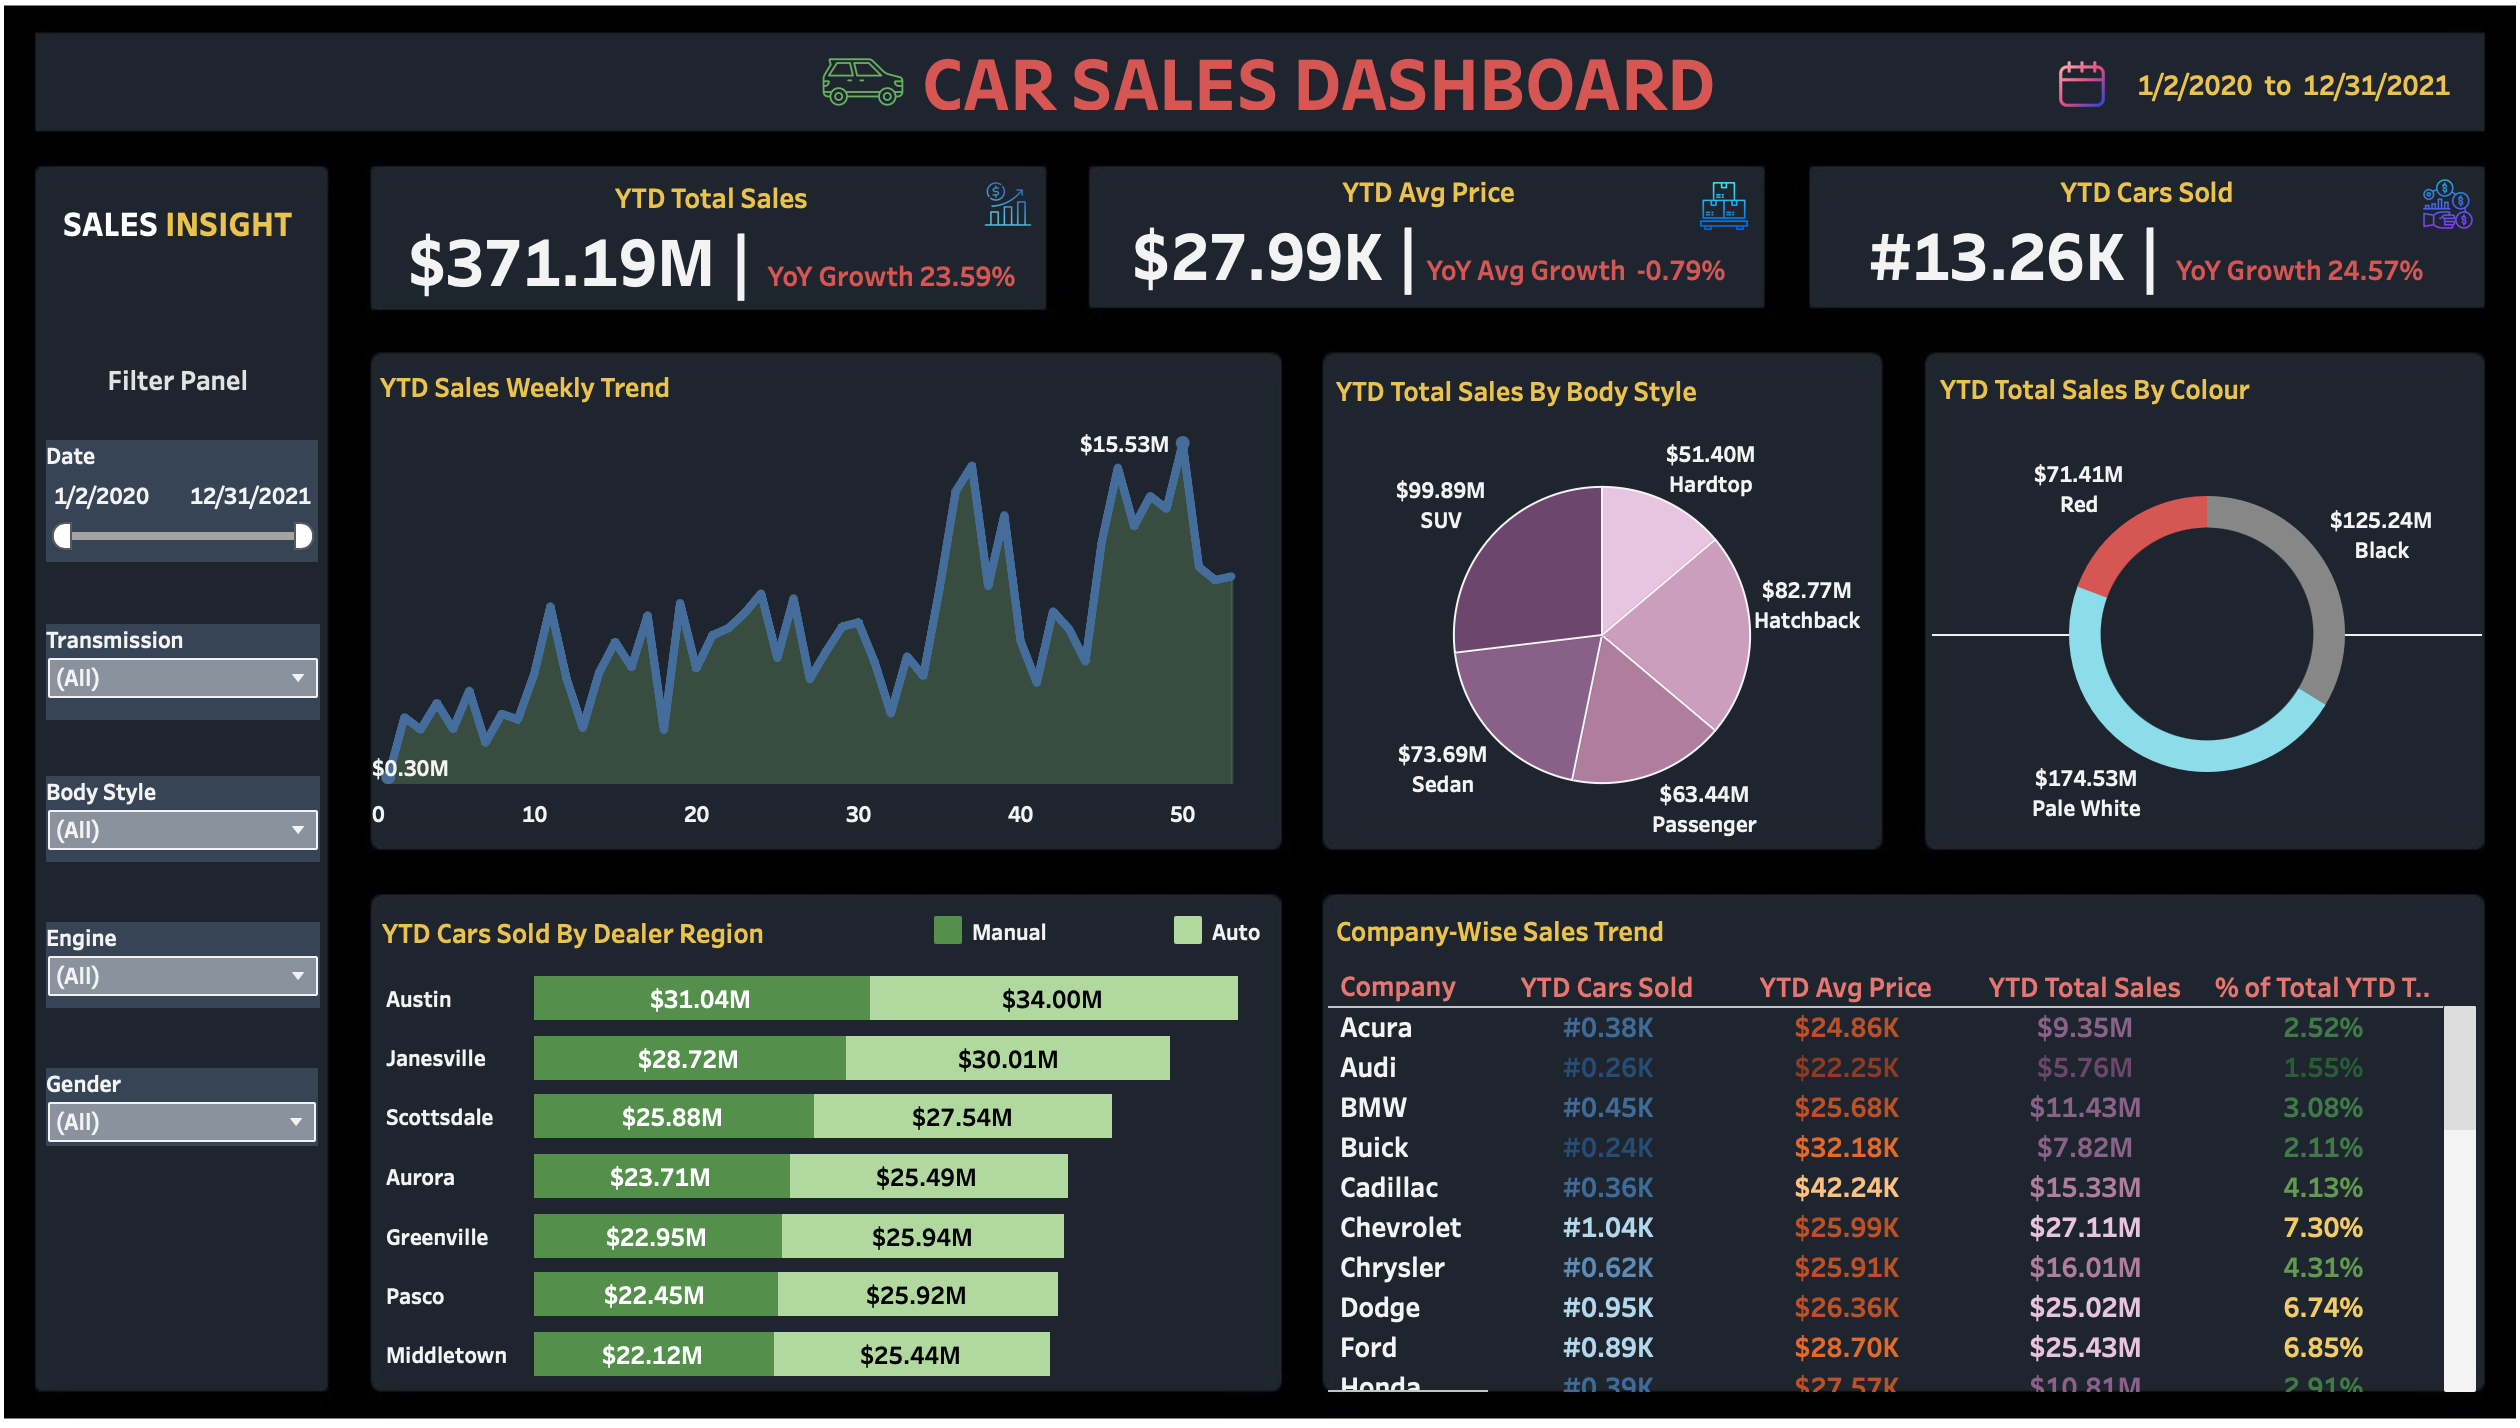

The dashboard page shown, as its layout file describes it:
{"tool":"tableau","page":{"name":"Dashboard 1","canvas":[1280,800],"ordinal":0},"visuals":[{"type":"image","param":"Image/Car Sales Background.jpg","box":[8,8,1264,784]},{"type":"image","param":"Image/Car Icon.png","box":[409,61,65,48]},{"type":"worksheet","title":"Date Range","mark":"Automatic","box":[1054,63,202,46]},{"type":"text","box":[471,69,401,30]},{"type":"image","param":"Image/calendar.png","box":[1038,73,26,26]},{"type":"worksheet","title":"YTD Avg Price","mark":"Automatic","box":[555,127,337,69]},{"type":"worksheet","title":"YTD Cars Sold","mark":"Automatic","box":[916,127,333,69]},{"type":"worksheet","title":"YTD Total Sales","mark":"Automatic","box":[196,131,338,67]},{"type":"image","param":"Image/Sales Icon.png","box":[501,133,26,26]},{"type":"image","param":"Image/Cars Sold Icon.png","box":[1221,133,26,26]},{"type":"image","param":"Image/Avg Price Icon.png","box":[859,134,26,26]},{"type":"text","box":[39,140,120,30]},{"type":"text","box":[39,218,120,30]},{"type":"worksheet","title":"YTD Sales Weekly Trend","mark":"Area","rows":["Calculation_1224134711220391936","Calculation_1224134711220391936"],"cols":["Date"],"box":[196,221,454,245]},{"type":"worksheet","title":"YTD Total Sales By Colour","mark":"Pie","rows":["Calculation_1224134711648960524","Calculation_1224134711649021966"],"box":[976,222,275,244]},{"type":"worksheet","title":"YTD Total Sales By Body Style","mark":"Pie","box":[674,223,274,243]},{"type":"filter","title":"YTD Sales Weekly Trend","param":"[federated.0pu2al31kboksc10l0upq0aom5mf].[none:Date:qk]","box":[33,264,136,61]},{"type":"filter","title":"YTD Sales Weekly Trend","param":"[federated.0pu2al31kboksc10l0upq0aom5mf].[none:Transmission:nk]","box":[33,356,137,48]},{"type":"filter","title":"YTD Sales Weekly Trend","param":"[federated.0pu2al31kboksc10l0upq0aom5mf].[none:Body Style:nk]","box":[33,432,137,43]},{"type":"worksheet","title":"Company-Wise Sales Trend","mark":"Automatic","rows":["Company"],"box":[674,493,576,247]},{"type":"worksheet","title":"YTD Cars Sold By Dealer Region","mark":"Automatic","rows":["Dealer_Region"],"cols":["Calculation_1224134711220391936"],"box":[197,494,450,242]},{"type":"legend","title":"YTD Cars Sold By Dealer Region","param":"[federated.0pu2al31kboksc10l0upq0aom5mf].[none:Transmission:nk]","box":[474,499,331,23]},{"type":"filter","title":"YTD Sales Weekly Trend","param":"[federated.0pu2al31kboksc10l0upq0aom5mf].[none:Engine:nk]","box":[33,505,137,43]},{"type":"filter","title":"YTD Sales Weekly Trend","param":"[federated.0pu2al31kboksc10l0upq0aom5mf].[none:Gender:nk]","box":[33,578,136,39]}]}

Visuals, with their boxes on the page's 1280x800 design canvas (x1, y1, x2, y2). These are canvas units, not pixel positions in the 2520x1428 screenshot, which may show the page scaled, cropped or inside an application window:
image: 8, 8, 1272, 792
image: 409, 61, 474, 109
"Date Range" worksheet: 1054, 63, 1256, 109
text: 471, 69, 872, 99
image: 1038, 73, 1064, 99
"YTD Avg Price" worksheet: 555, 127, 892, 196
"YTD Cars Sold" worksheet: 916, 127, 1249, 196
"YTD Total Sales" worksheet: 196, 131, 534, 198
image: 501, 133, 527, 159
image: 1221, 133, 1247, 159
image: 859, 134, 885, 160
text: 39, 140, 159, 170
text: 39, 218, 159, 248
"YTD Sales Weekly Trend" worksheet (Area marks): 196, 221, 650, 466
"YTD Total Sales By Colour" worksheet (Pie marks): 976, 222, 1251, 466
"YTD Total Sales By Body Style" worksheet (Pie marks): 674, 223, 948, 466
"YTD Sales Weekly Trend" filter: 33, 264, 169, 325
"YTD Sales Weekly Trend" filter: 33, 356, 170, 404
"YTD Sales Weekly Trend" filter: 33, 432, 170, 475
"Company-Wise Sales Trend" worksheet: 674, 493, 1250, 740
"YTD Cars Sold By Dealer Region" worksheet: 197, 494, 647, 736
"YTD Cars Sold By Dealer Region" legend: 474, 499, 805, 522
"YTD Sales Weekly Trend" filter: 33, 505, 170, 548
"YTD Sales Weekly Trend" filter: 33, 578, 169, 617
